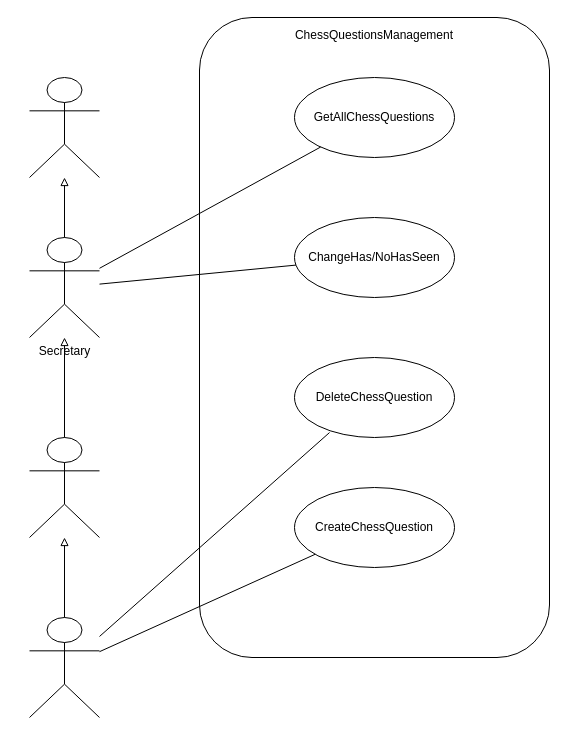
Some shapes in this 567 by 756 pixel diagram are drawn without their labels. Each missing label, with the centre of its shape:
President: (x=64, y=127)
RegisteredUser: (x=64, y=487)
UnregisteredUser: (x=64, y=667)
